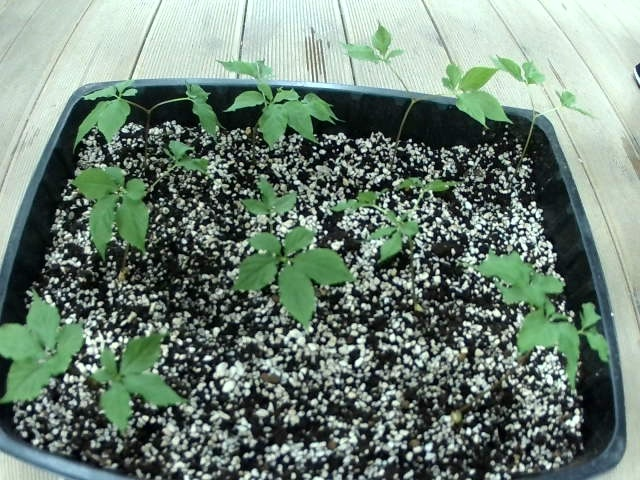수확기: (235, 235, 324, 326), (525, 299, 618, 384), (95, 323, 171, 427), (68, 161, 155, 248), (226, 81, 337, 148), (471, 238, 566, 313), (7, 287, 67, 403), (61, 78, 139, 150), (172, 75, 231, 143), (165, 137, 223, 199), (443, 63, 499, 127), (367, 206, 417, 276), (492, 36, 539, 96), (247, 167, 297, 222), (239, 51, 301, 94), (548, 85, 604, 129), (345, 17, 401, 59), (398, 171, 464, 206), (342, 183, 383, 226)
